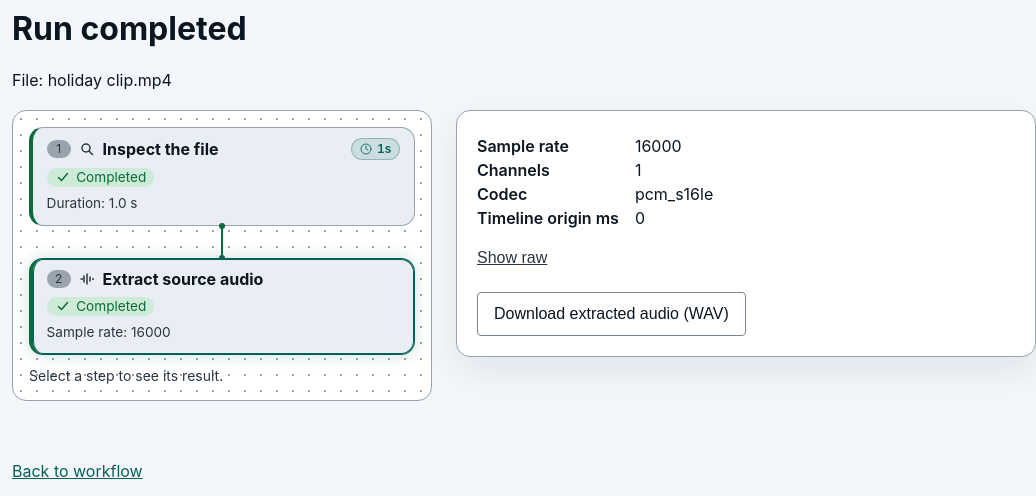
it: RunProgressPage › says "Could not get download link" inline and re-enables the WAV download action when the request fails
This screenshot has width=1036, height=496.
Click the button "Download extracted audio (WAV)".
click(611, 314)  # box [477,292,746,336]
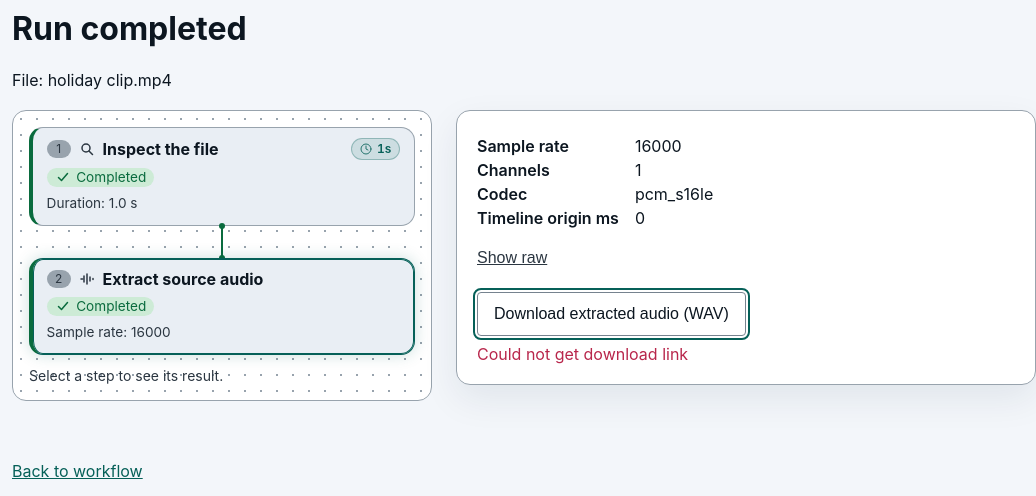
Check: the text "Could not get download link" is shown, box [477,344,688,364]
